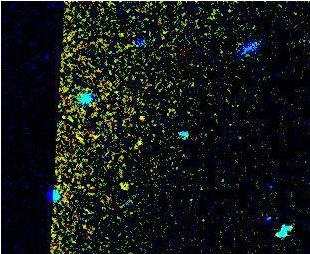star: (109, 171, 139, 201)
